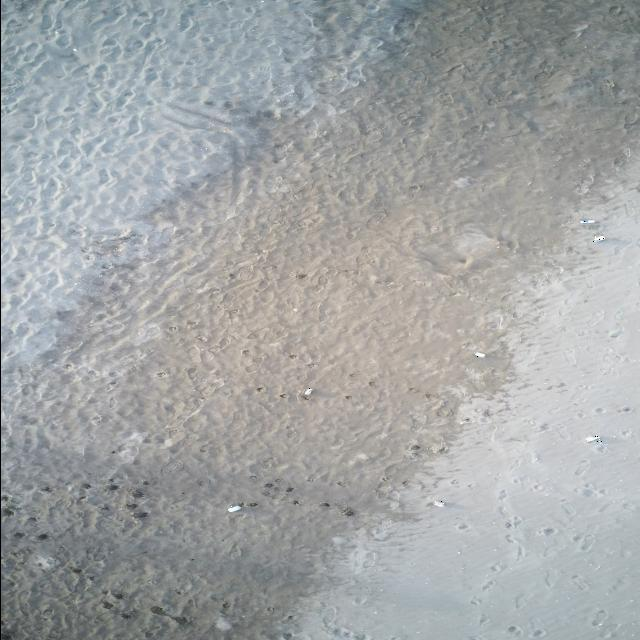Garbage: (584, 435, 600, 442), (341, 507, 353, 515), (227, 504, 239, 512), (432, 499, 444, 506), (592, 235, 604, 241), (579, 219, 595, 223), (303, 388, 312, 395), (473, 352, 484, 357)
